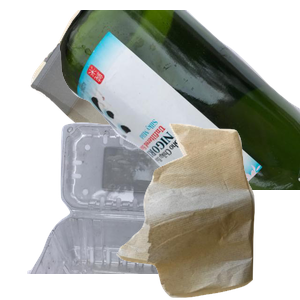glass: (60, 10, 300, 190)
paper: (28, 10, 268, 190)
plastic: (25, 120, 245, 300)
trash: (114, 121, 300, 300)
